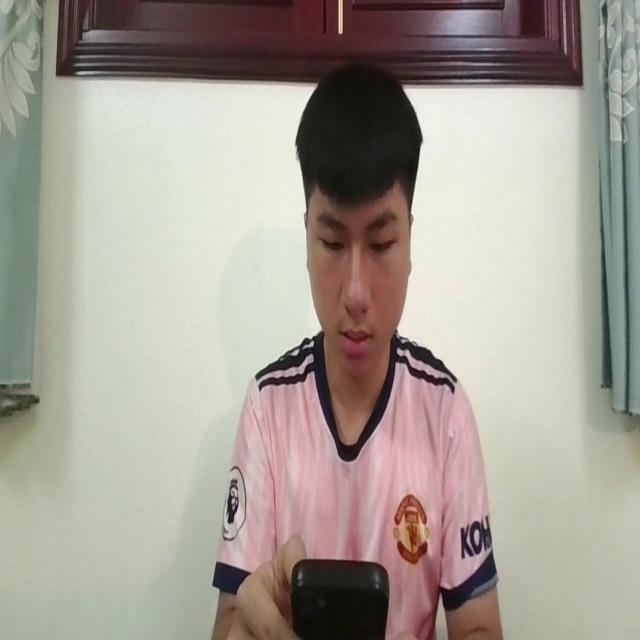phone: (290, 560, 391, 640)
student: (216, 61, 504, 640)
